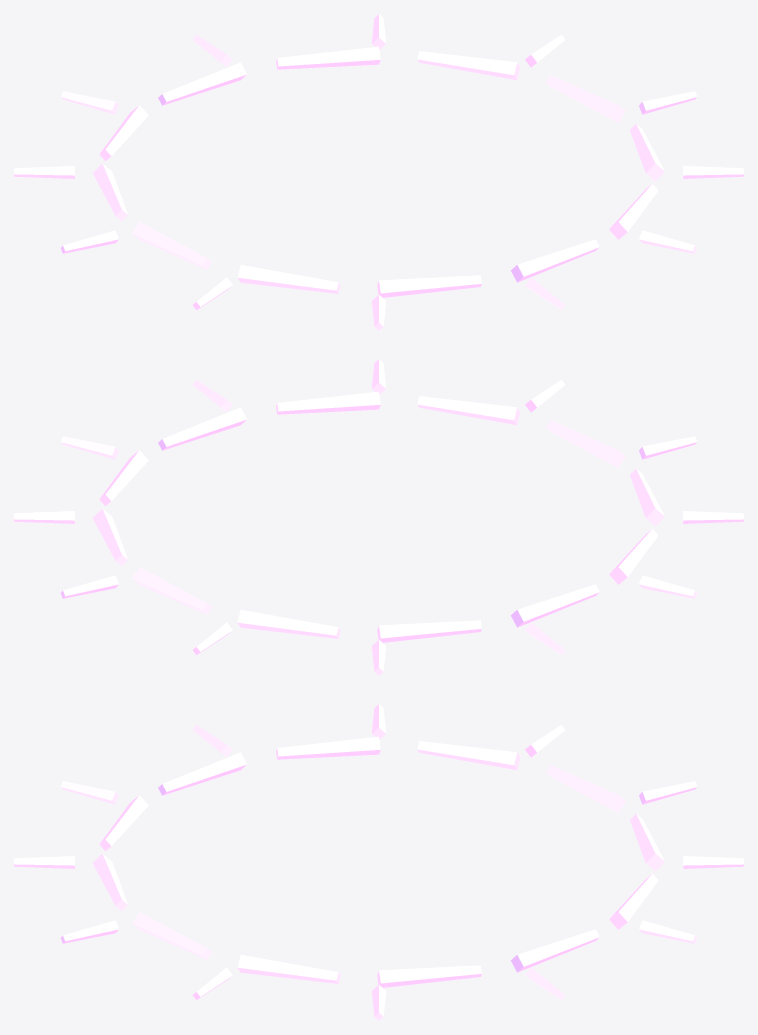
The model's file is arcane_ring_a.glb.
3 renders of one model, top to bottom at view 1: azimuth 30°, elevation 25°; view 2: azimuth 150°, elevation 25°; view 3: azimuth 270°, elevation 25°, orthographic.
Parts seen in each view (by area): view 1: arcane_ring_a; view 2: arcane_ring_a; view 3: arcane_ring_a.
Part boxes in pixels (x1,y1,x2,y2): arcane_ring_a: (14, 14, 743, 330); arcane_ring_a: (14, 359, 743, 675); arcane_ring_a: (14, 704, 743, 1020).
Bounding box in the file's own units: 1.32 × 0.036 × 1.32.
